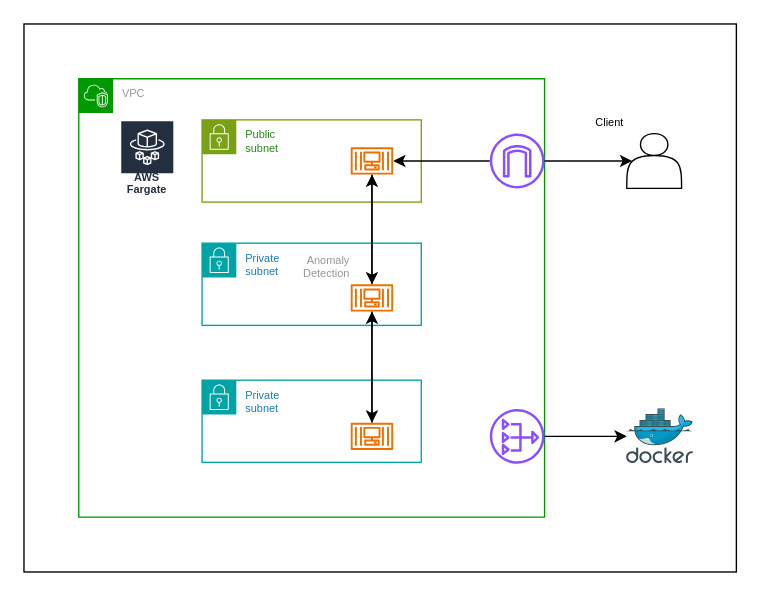
This 760x596 diagram has some shape labels left out. Each missing label, with the centre of its shape:
Dashboard: (x=371, y=160)
Data Stream: (x=371, y=435)
IGW: (x=516, y=160)
NAT GW: (x=516, y=436)
